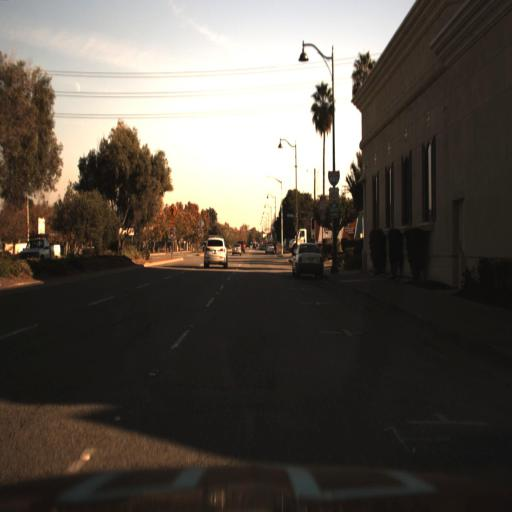car: (16, 225, 64, 271), (195, 232, 230, 272), (291, 242, 325, 283), (227, 237, 249, 263)
truck: (289, 211, 366, 243)
